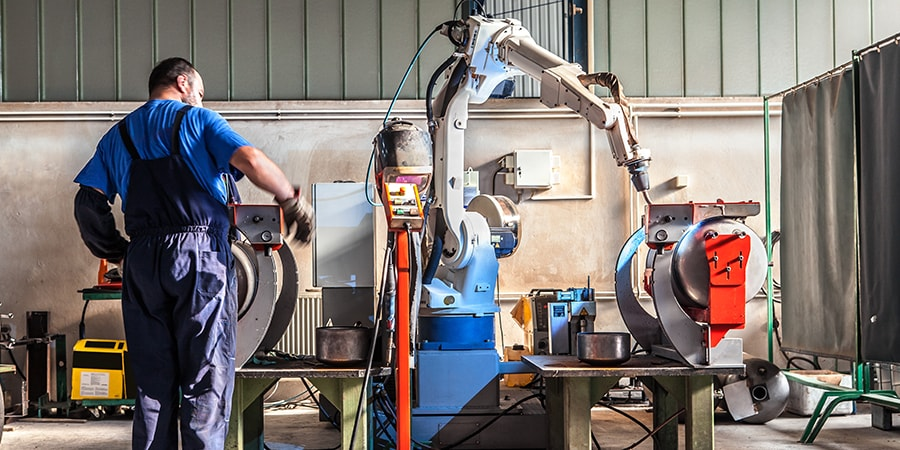person: (72, 55, 318, 450)
robot: (372, 12, 656, 315)
